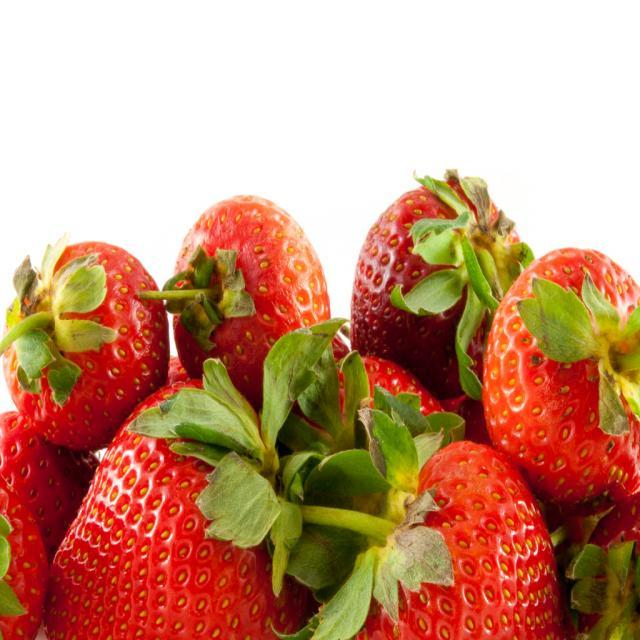Strawberry: (0, 188, 639, 639), (352, 170, 532, 398), (18, 251, 158, 467)
